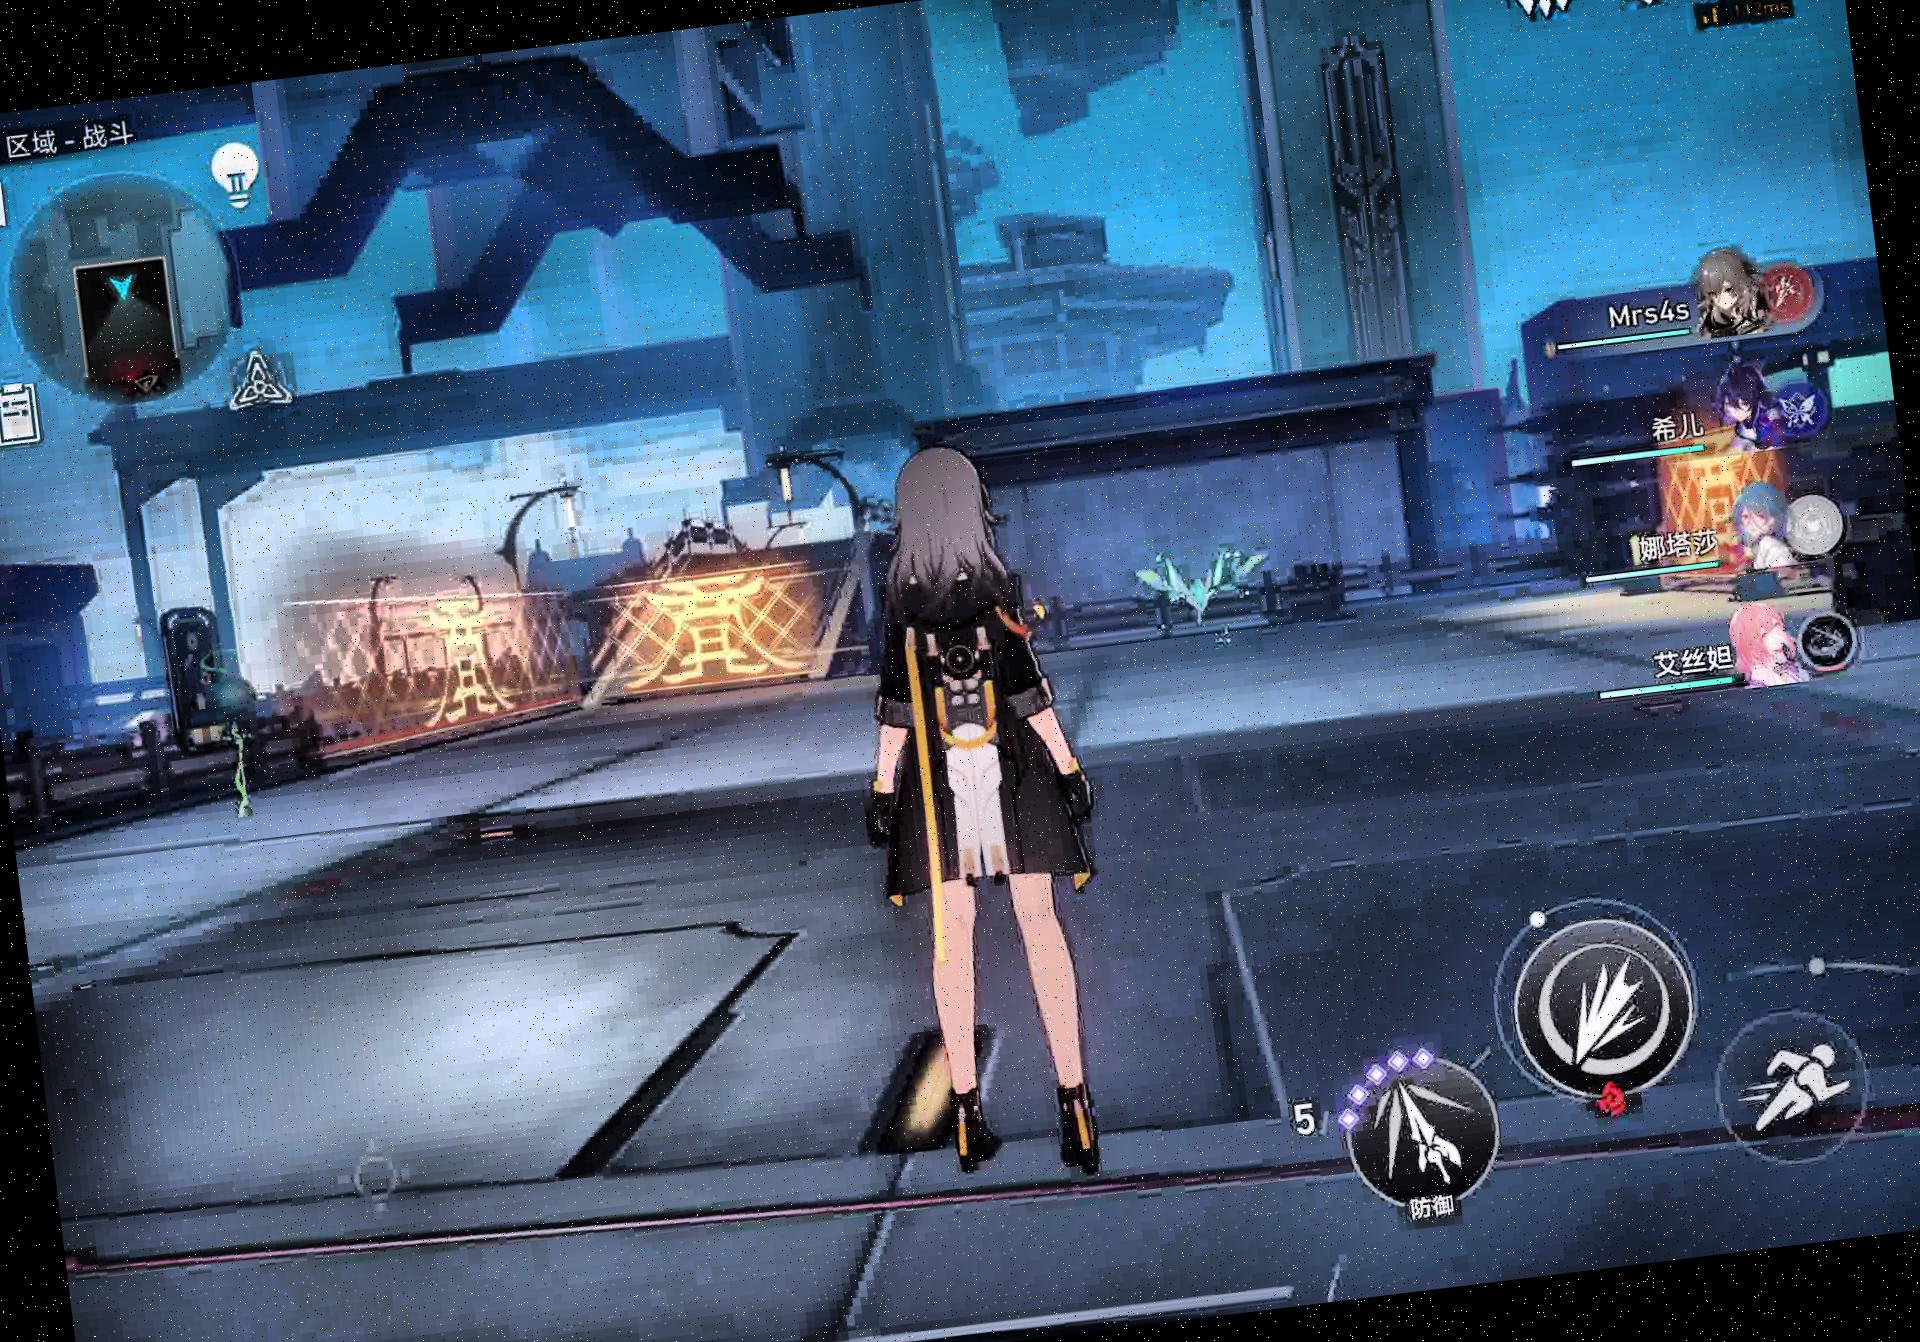Enemy: (1118, 534, 1285, 648)
Self: (816, 435, 1151, 1221)
